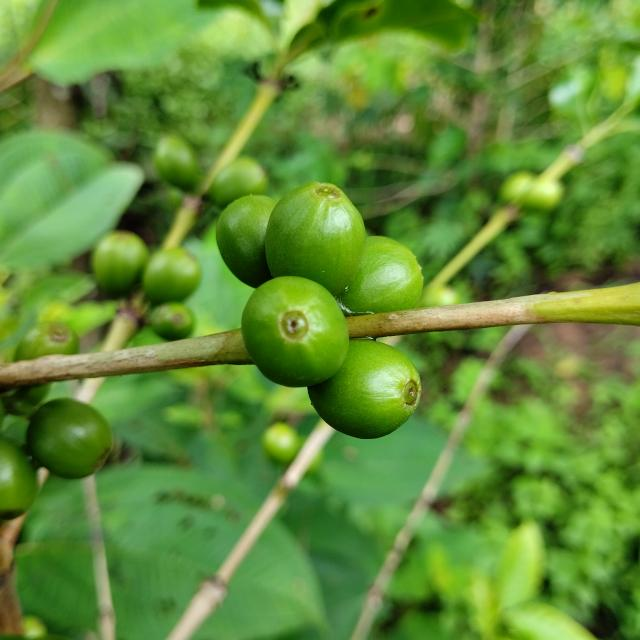green: (241, 276, 349, 387), (265, 181, 366, 296), (308, 339, 422, 439), (26, 399, 112, 479), (337, 236, 424, 315), (216, 195, 276, 288), (91, 231, 148, 295), (142, 247, 200, 304)
